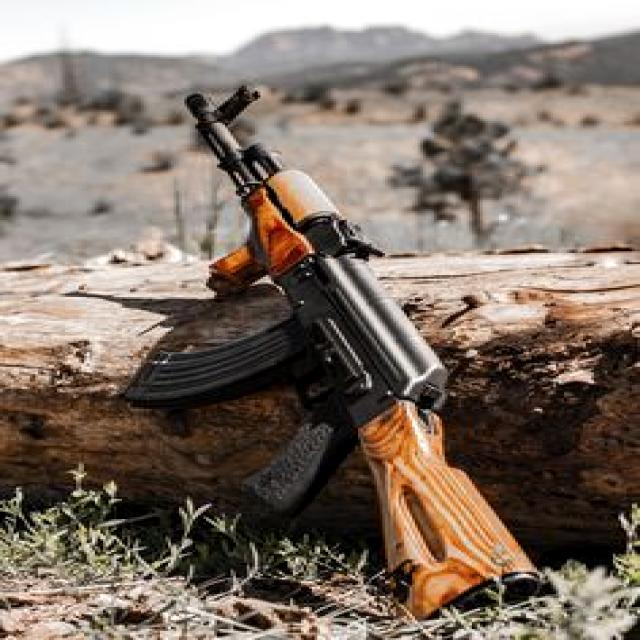ak: (117, 81, 561, 618)
